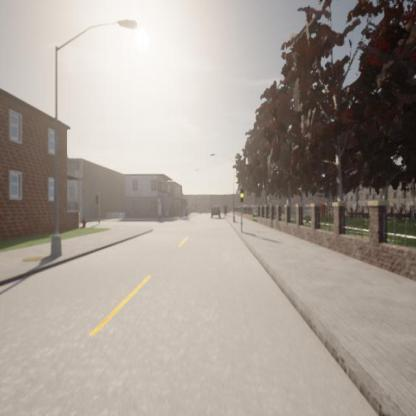traffic_light_orange: (240, 189, 244, 203)
